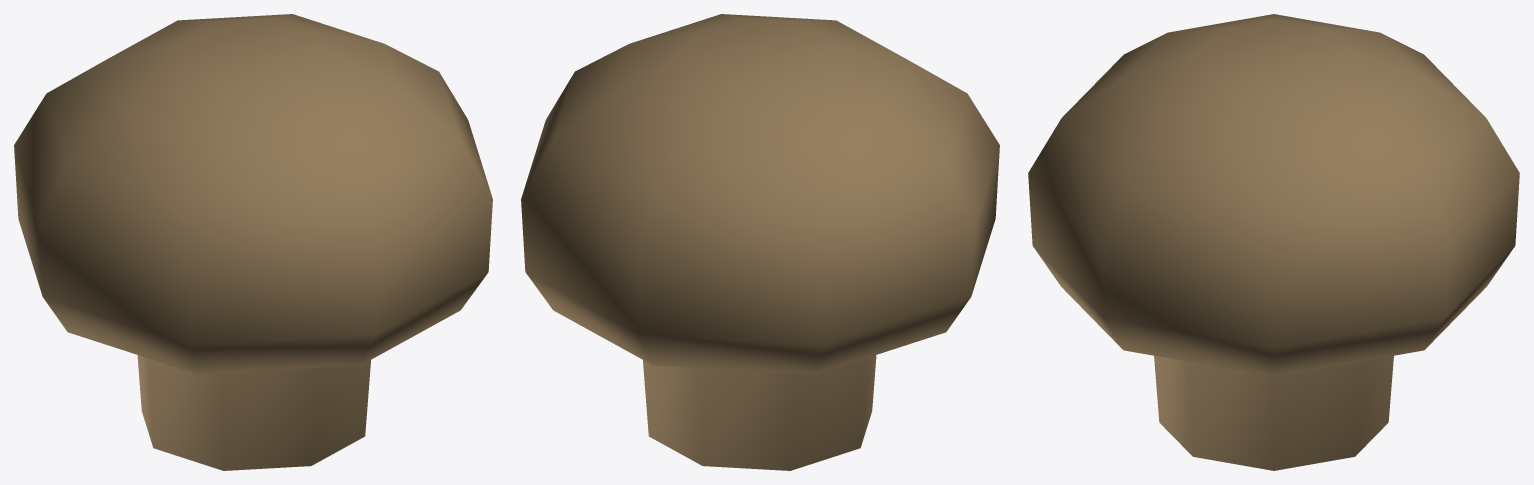
Rendered from mushroom.fbx.
3 renders of one model, left to right at view 1: azimuth 30°, elevation 25°; view 2: azimuth 150°, elevation 25°; view 3: azimuth 270°, elevation 25°, orthographic.
Parts seen in each view (by area): view 1: Sphere; view 2: Sphere; view 3: Sphere.
Boxes of the visible parts, x1,y1,x2,y2 form: Sphere: (14,14,492,470); Sphere: (521,14,999,470); Sphere: (1028,14,1519,470).
Size of the model in its own units: 152 by 126 by 152.
